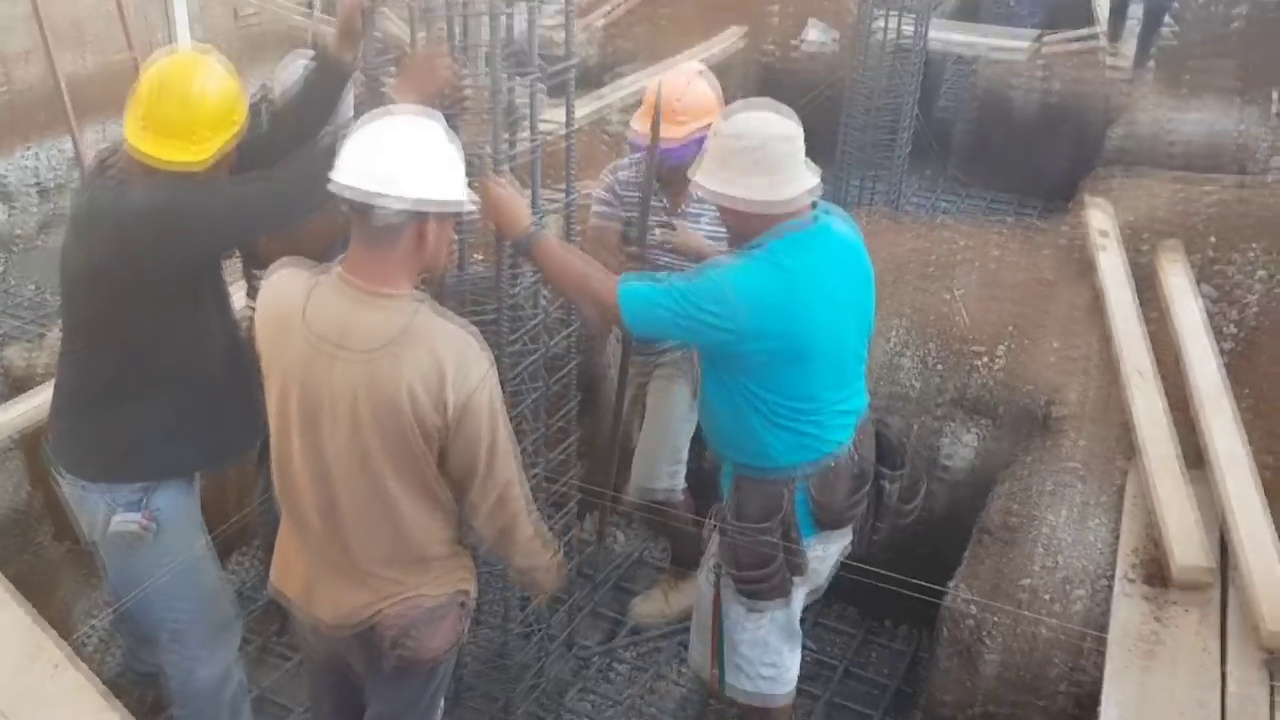helmet: (321, 100, 471, 222), (112, 51, 239, 169), (628, 69, 711, 150)
helmet-off: (690, 95, 821, 246)
helmet-on: (326, 100, 470, 296), (91, 46, 253, 200), (626, 65, 713, 196)
person: (484, 86, 879, 718), (46, 4, 372, 720), (242, 92, 569, 720), (574, 61, 725, 636)
